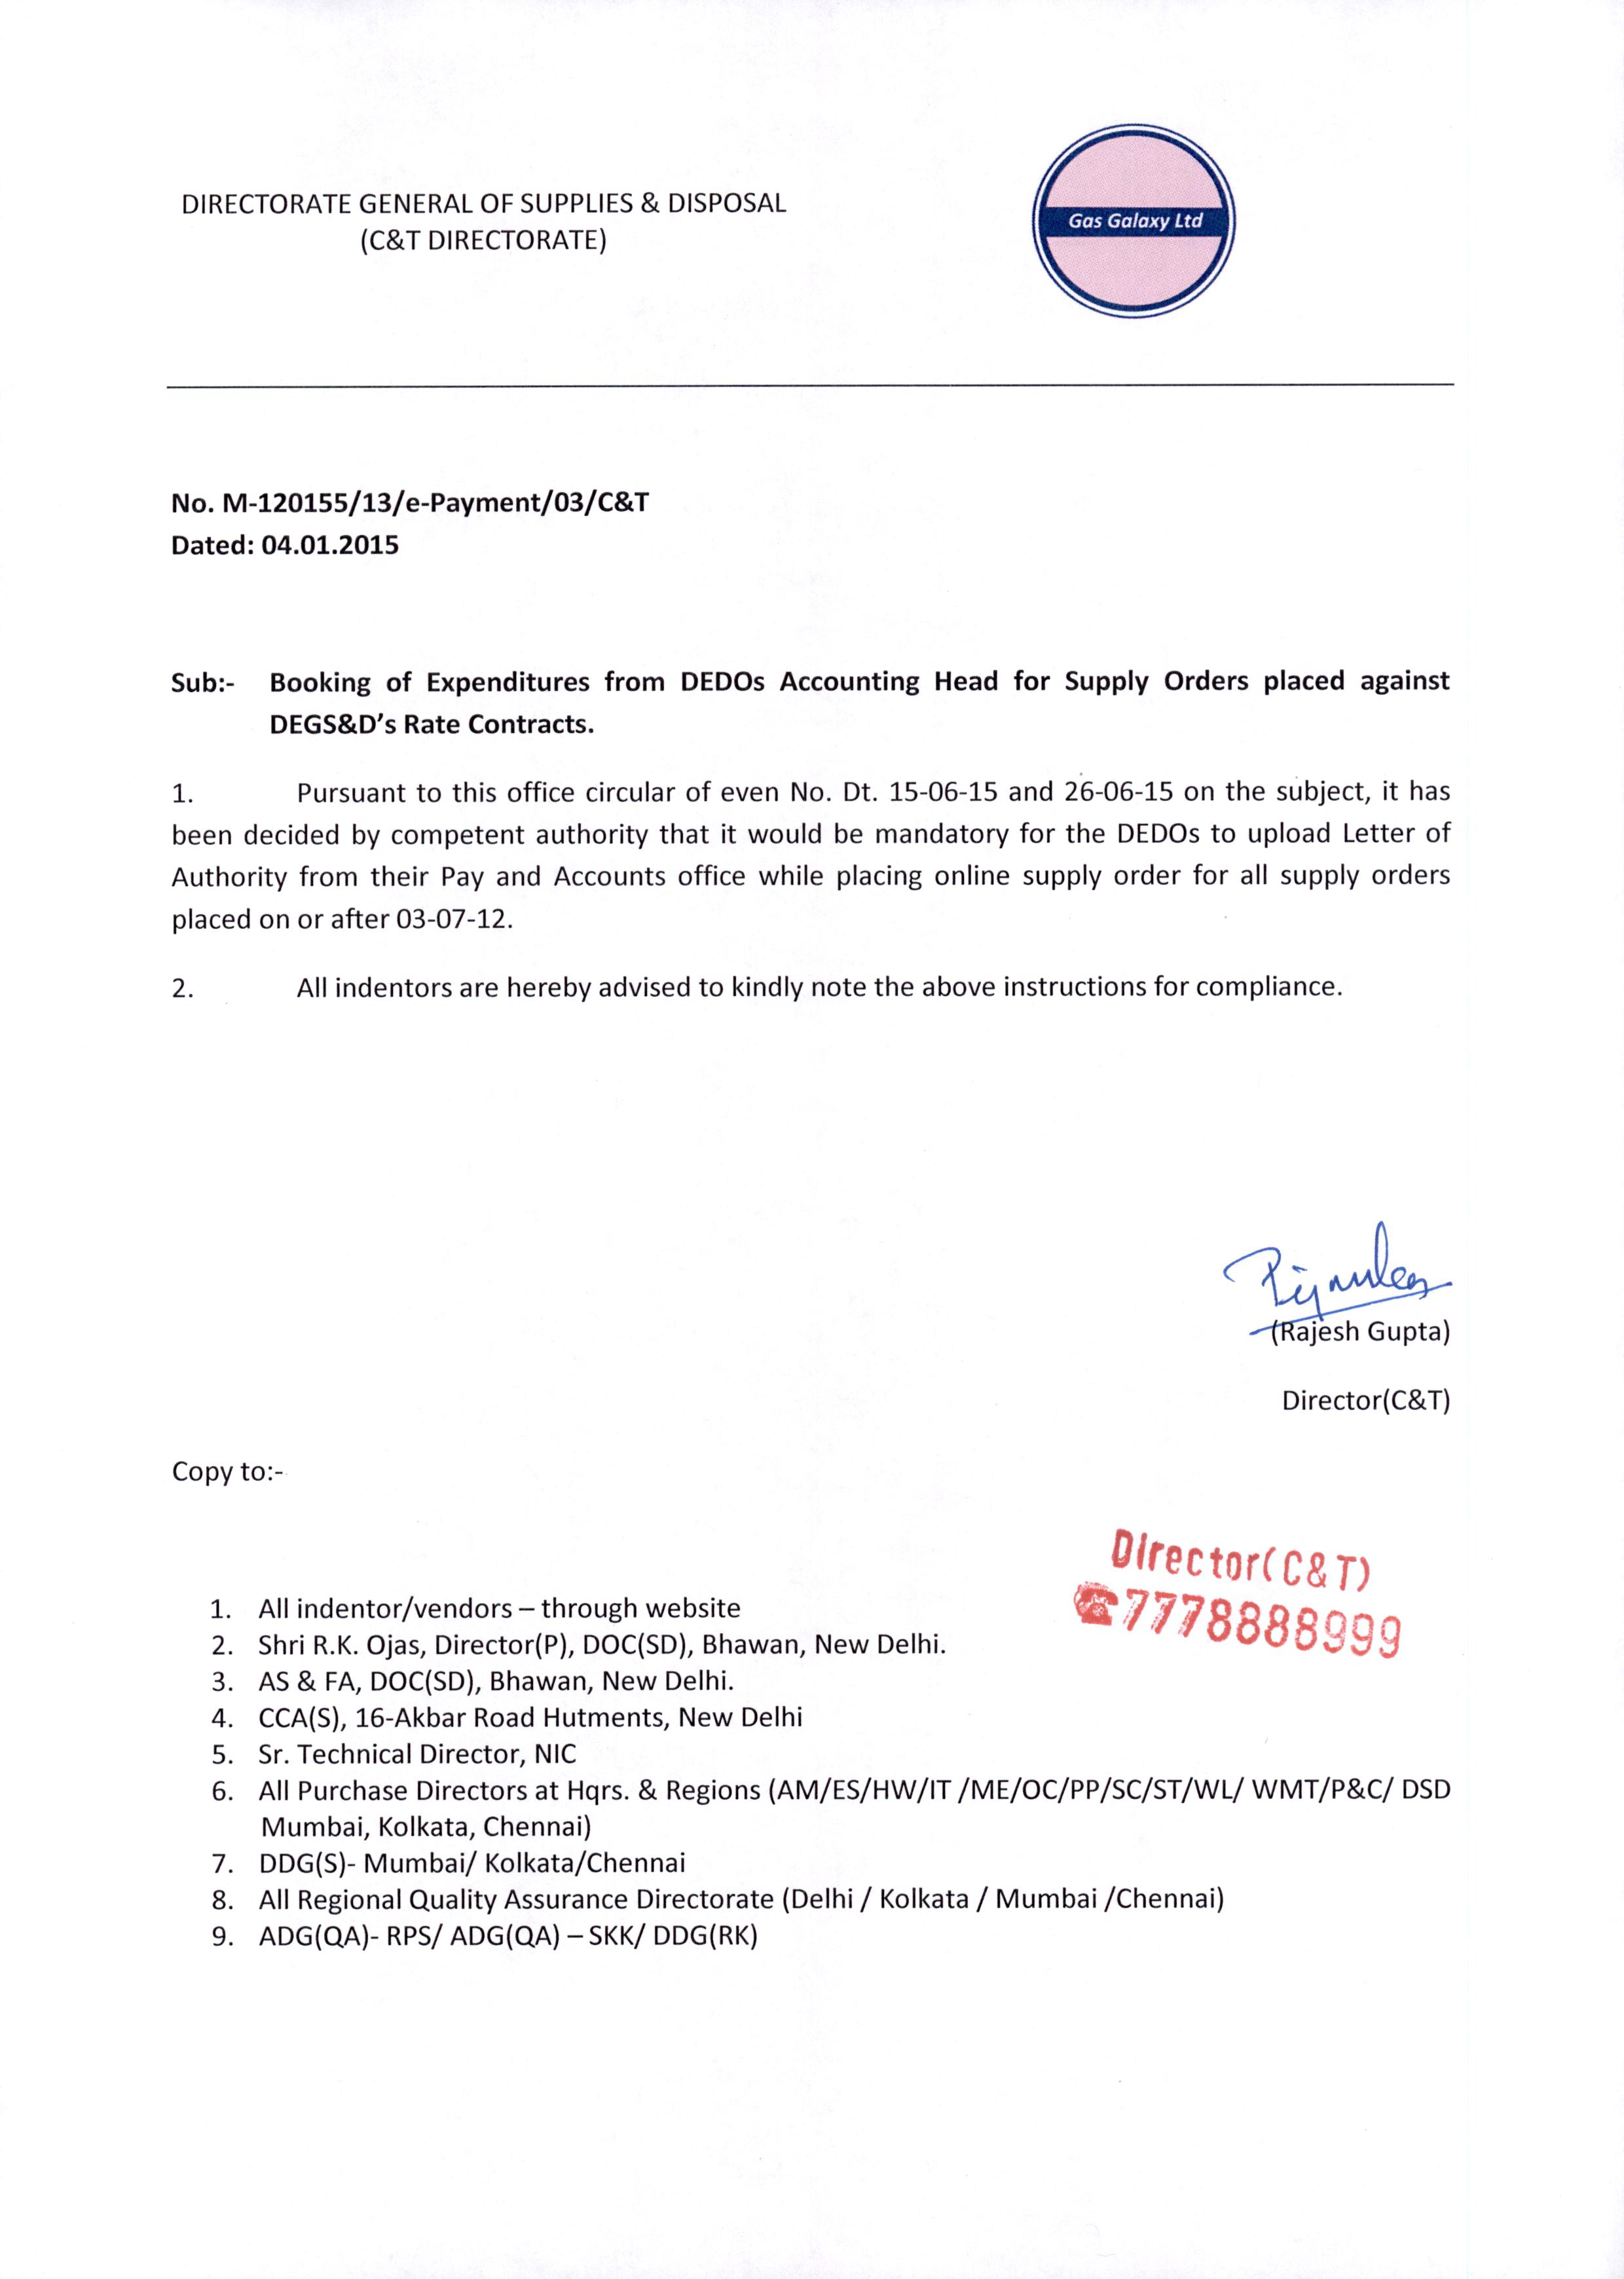Signature: (1220, 1212, 1457, 1321)
